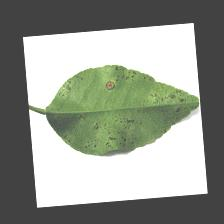canker: (85, 118, 140, 149)
